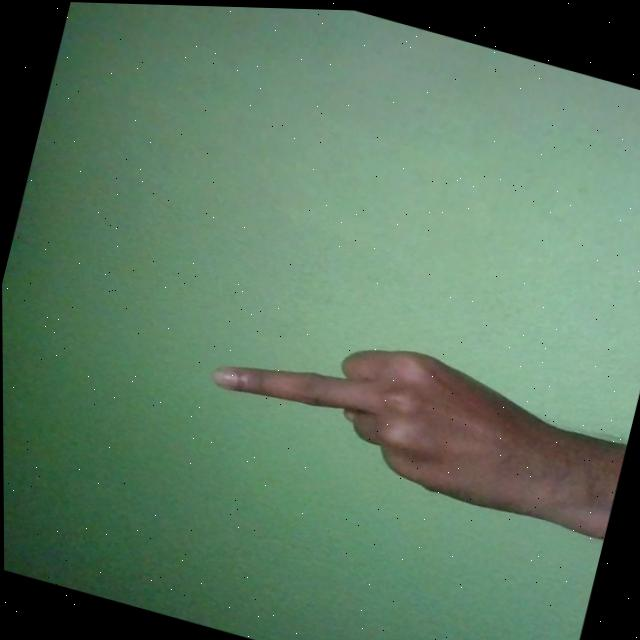Middle Finger: (196, 297, 620, 533)
